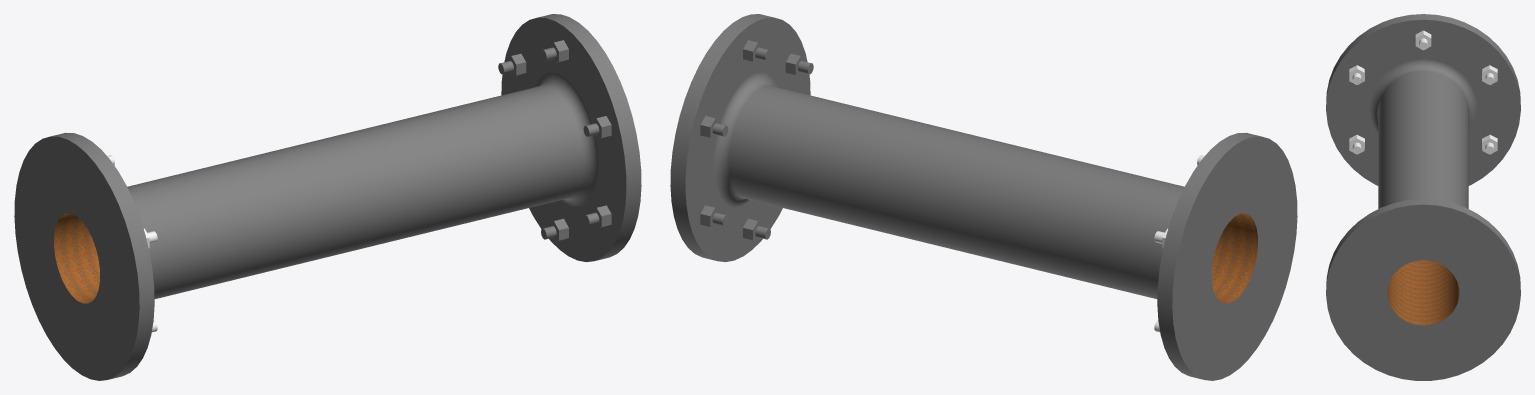
3 views of the same model, side by side, from view 1: azimuth 30°, elevation 25°; view 2: azimuth 150°, elevation 25°; view 3: azimuth 270°, elevation 25° (orthographic). The views are drawn at different scales.
Parts seen in each view (by area): view 1: Volumenkörper1; view 2: Volumenkörper1; view 3: Volumenkörper1.
Part boxes in pixels (x1,y1,x2,y2): Volumenkörper1: (14, 14, 641, 380); Volumenkörper1: (670, 14, 1297, 380); Volumenkörper1: (1326, 14, 1520, 380).
Bounding box in the file's own units: 0.5 × 0.2157 × 0.2159.
3 materials, 1 textured.
